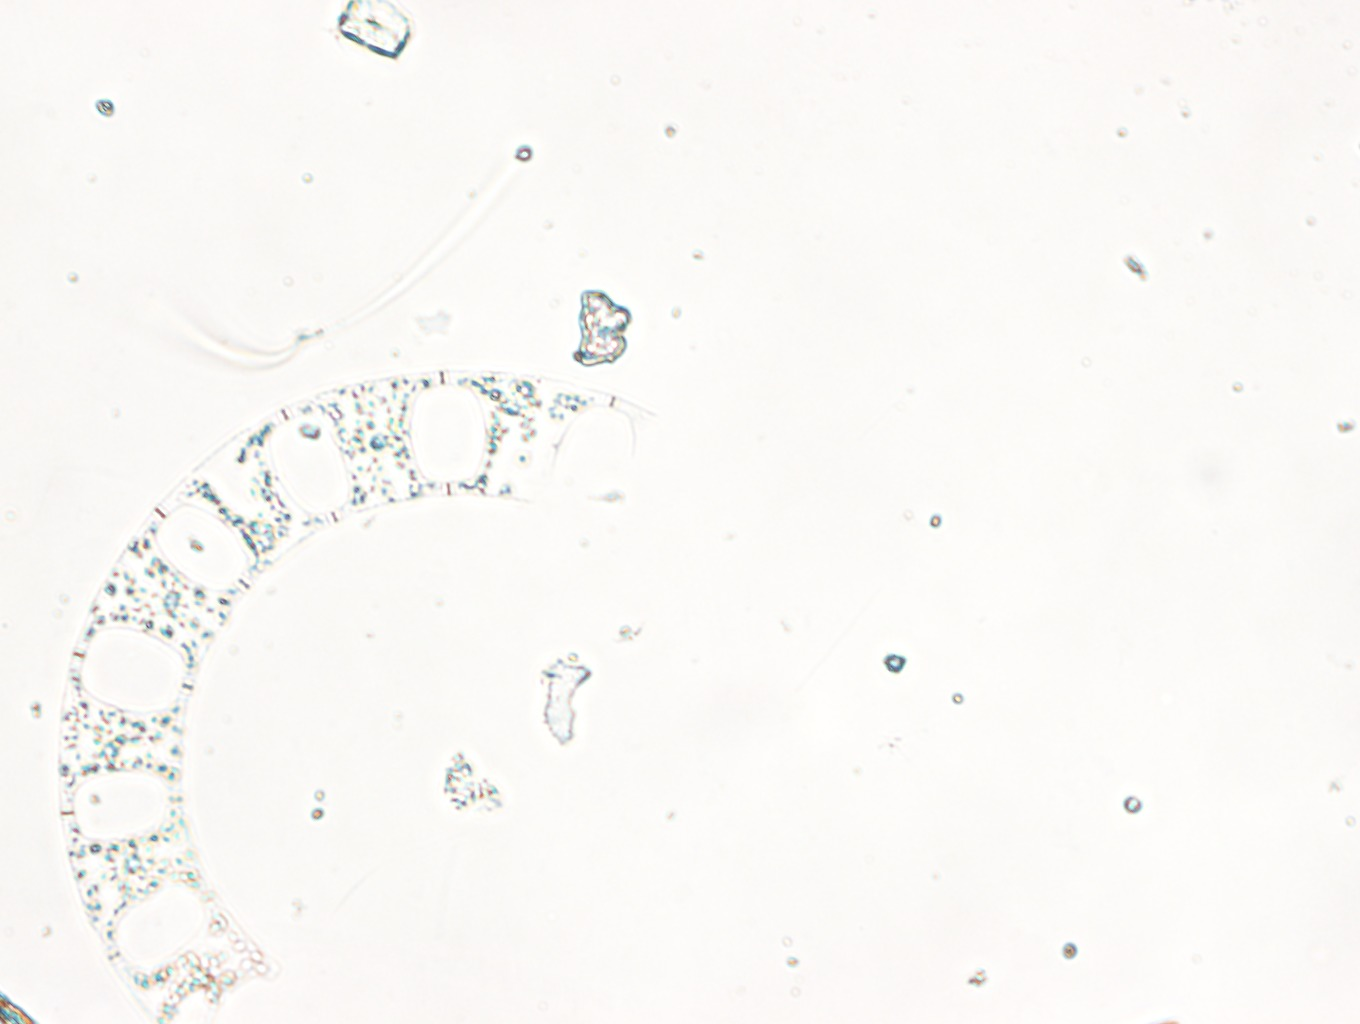eucampia: (58, 370, 660, 1024)
